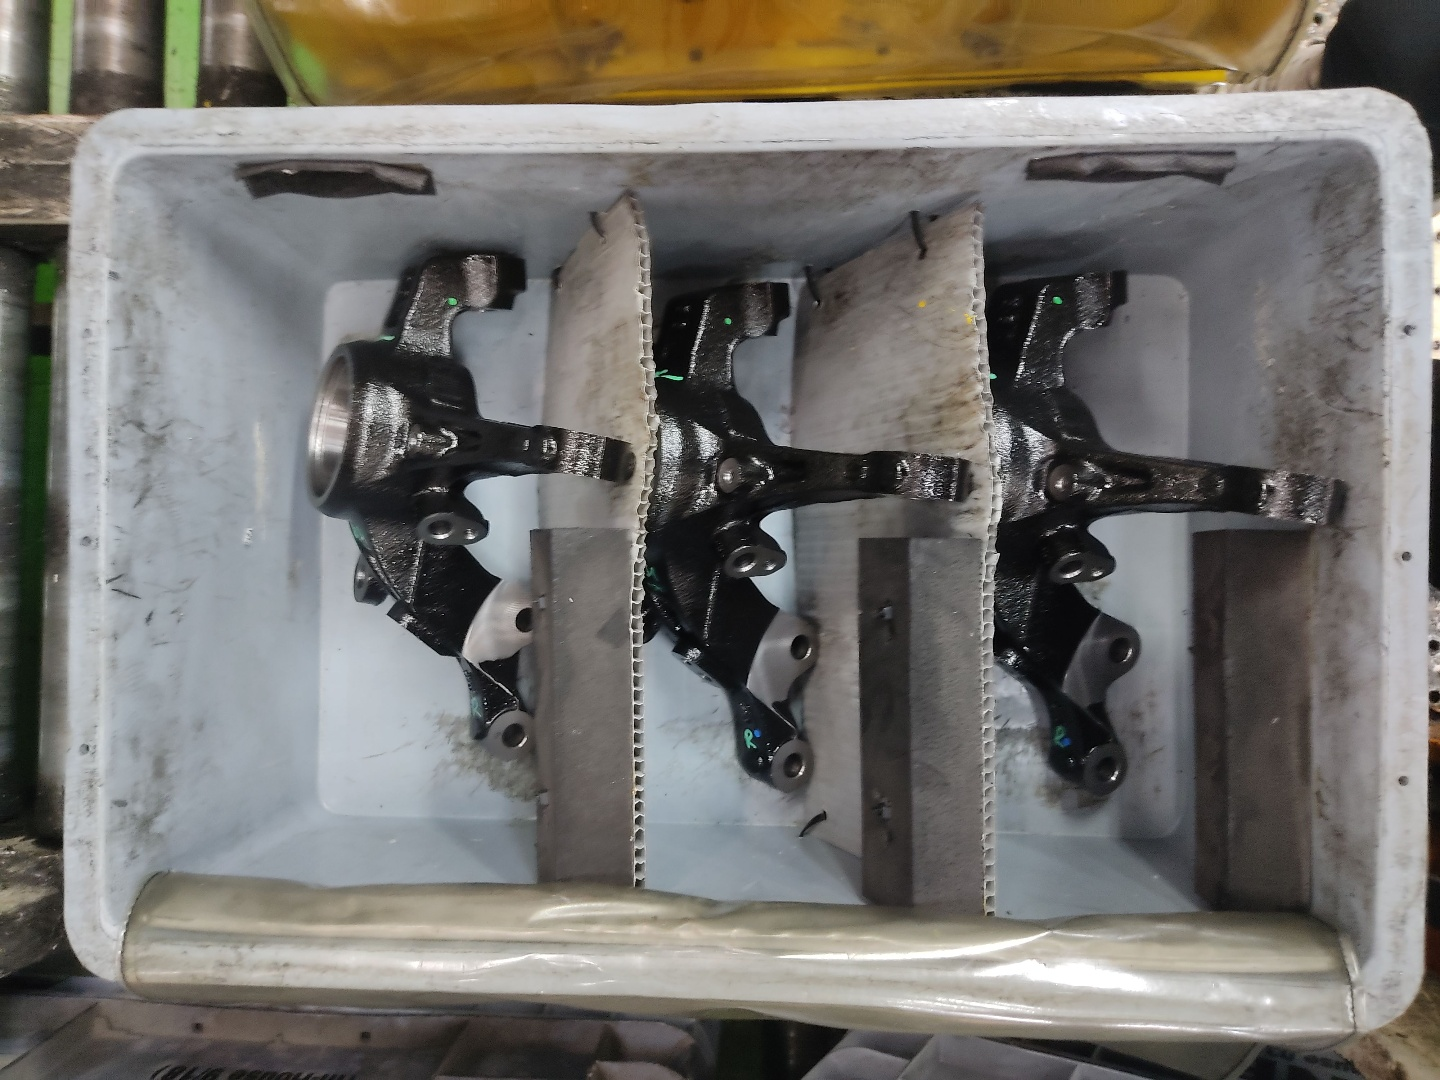abs-rh: (981, 264, 1352, 802), (297, 243, 637, 766), (646, 270, 975, 802)
